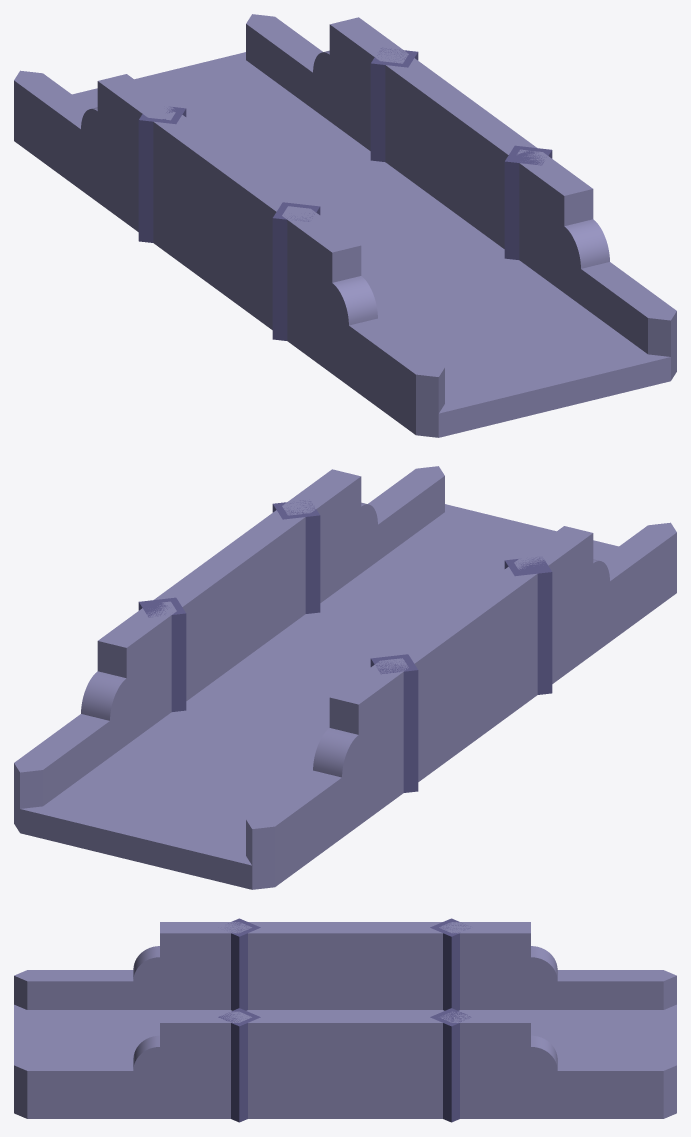
Rendered from corridor4.fbx.
The picture shows the model from 3 angles, top to bottom: view 1: azimuth 30°, elevation 25°; view 2: azimuth 150°, elevation 25°; view 3: azimuth 270°, elevation 25°; orthographic projection. The views are drawn at different scales.
Visible parts, largest first — view 1: mergedBlocks; view 2: mergedBlocks; view 3: mergedBlocks.
Part boxes in pixels (x1=…): mergedBlocks: x1=14, y1=14, x2=676, y2=437; mergedBlocks: x1=14, y1=466, x2=676, y2=889; mergedBlocks: x1=14, y1=918, x2=676, y2=1122.
Bounding box in the file's own units: 12.05 × 5 × 31.25.
